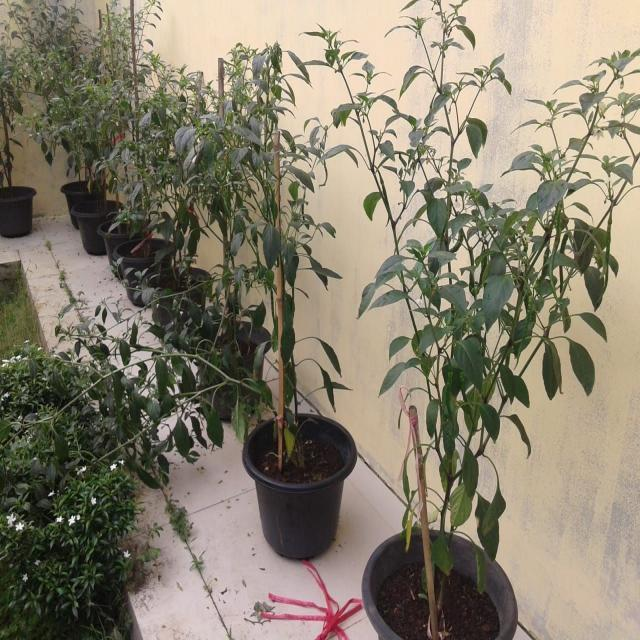sehat: (454, 338, 494, 392), (478, 268, 514, 327), (477, 400, 504, 444), (260, 224, 281, 265), (430, 195, 450, 235), (467, 121, 487, 158)
